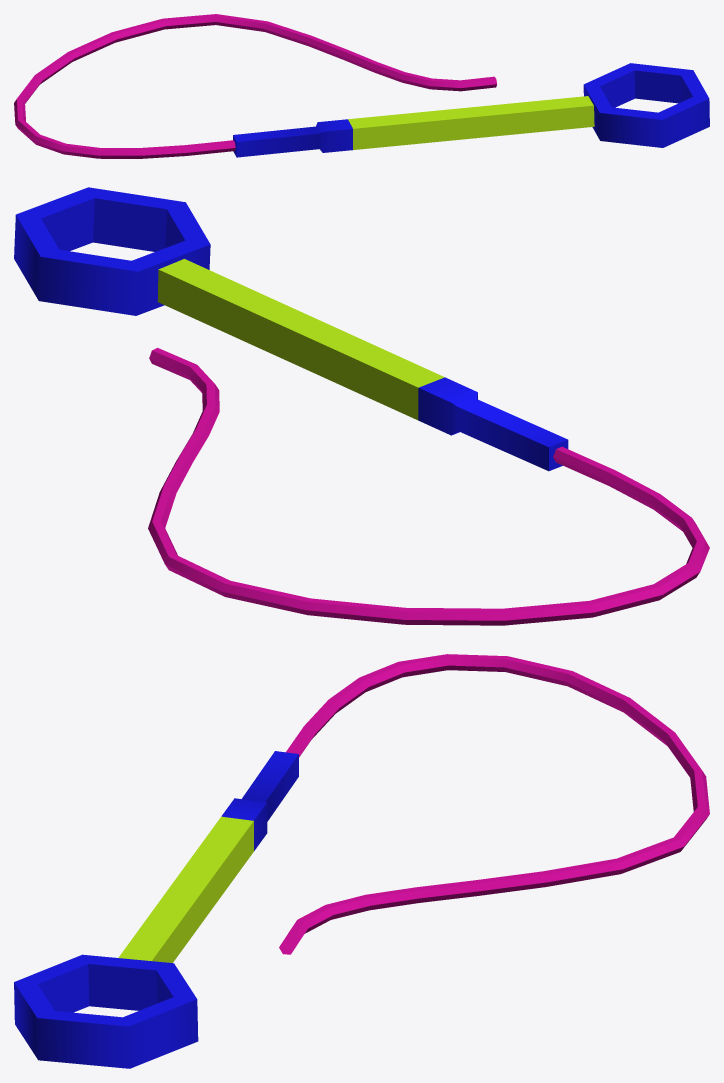
The model's file is fouet_a_trouver.FBX.
3 views of the same model, one above another, from view 1: azimuth 30°, elevation 25°; view 2: azimuth 150°, elevation 25°; view 3: azimuth 270°, elevation 25° (orthographic). The views are drawn at different scales.
Visible parts, largest first — view 1: fouet a trouver; view 2: fouet a trouver; view 3: fouet a trouver.
Part boxes in pixels (<box>): fouet a trouver: <box>14,14,709,158</box>; fouet a trouver: <box>14,187,709,625</box>; fouet a trouver: <box>14,654,709,1068</box>.
Size of the model in its own units: 54.36 by 3.09 by 40.74.
